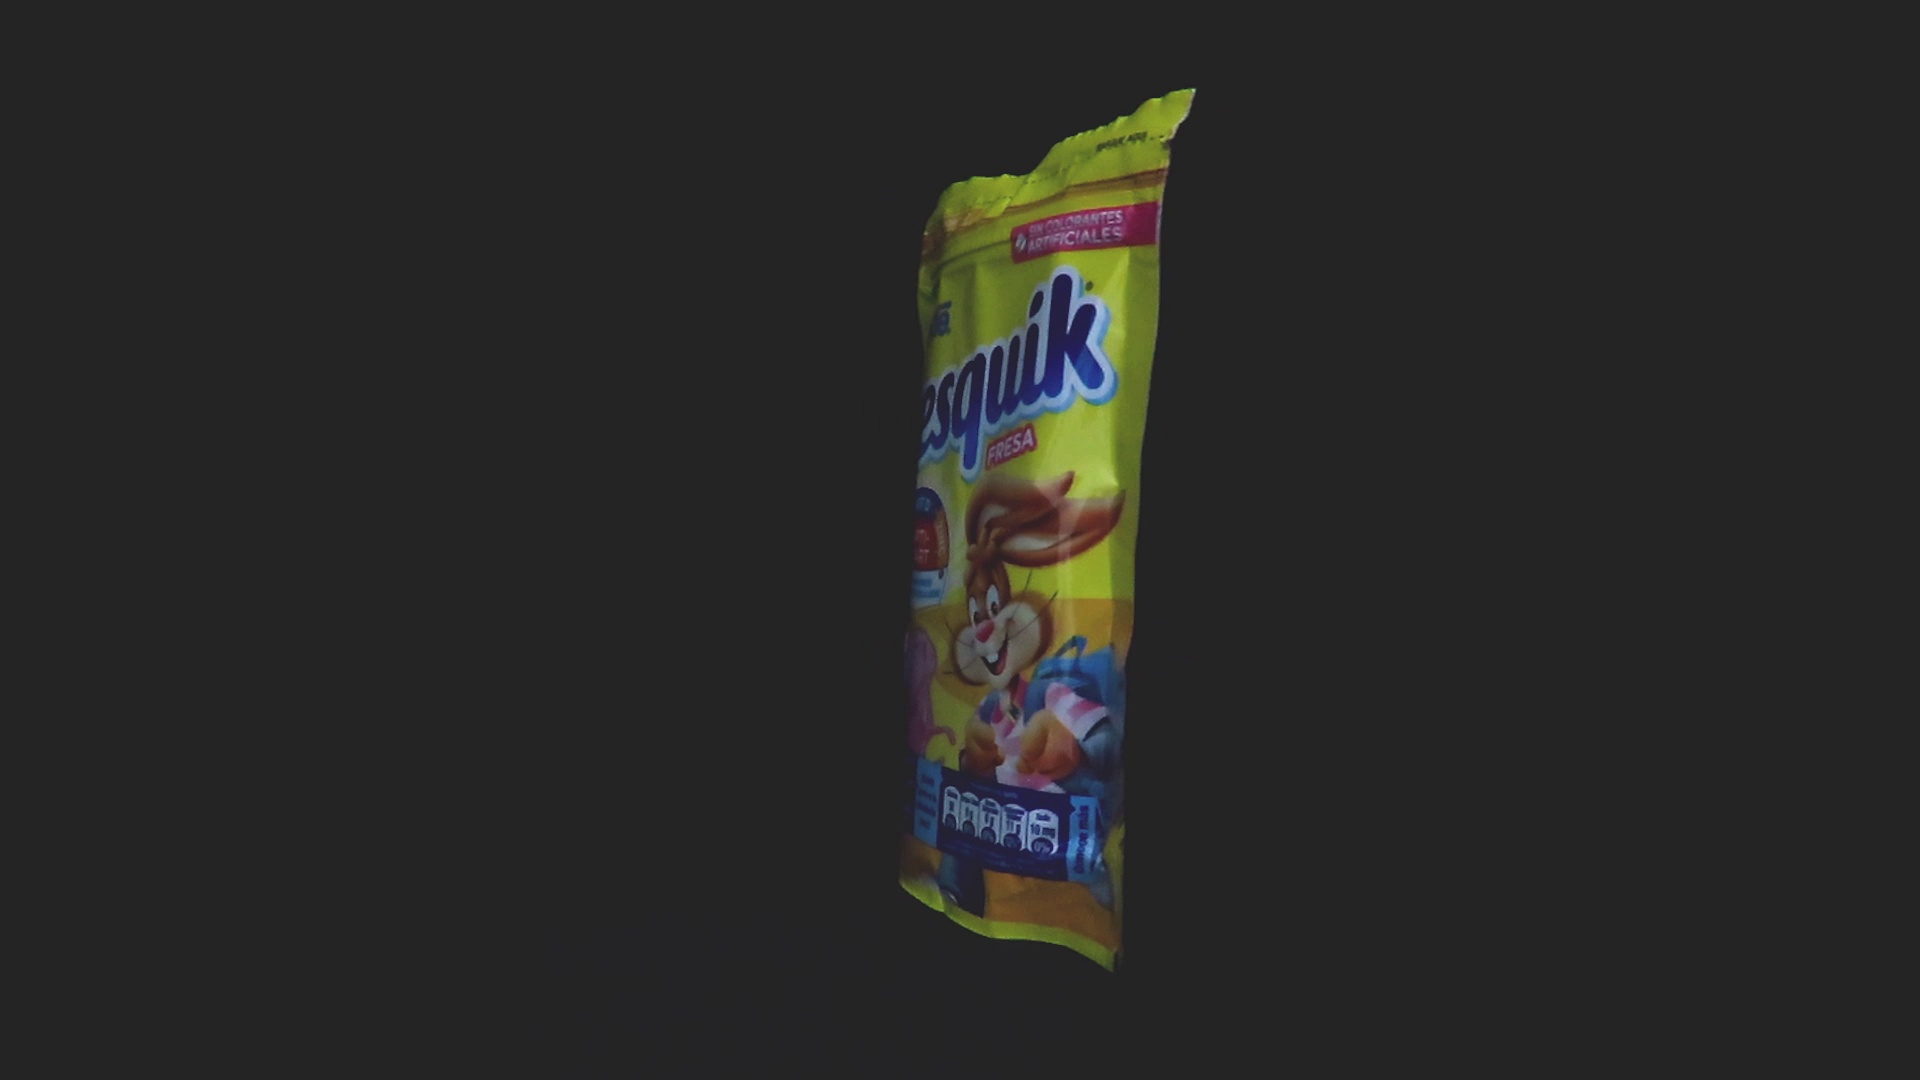COL0170305DYP20000: (893, 83, 1203, 978)
